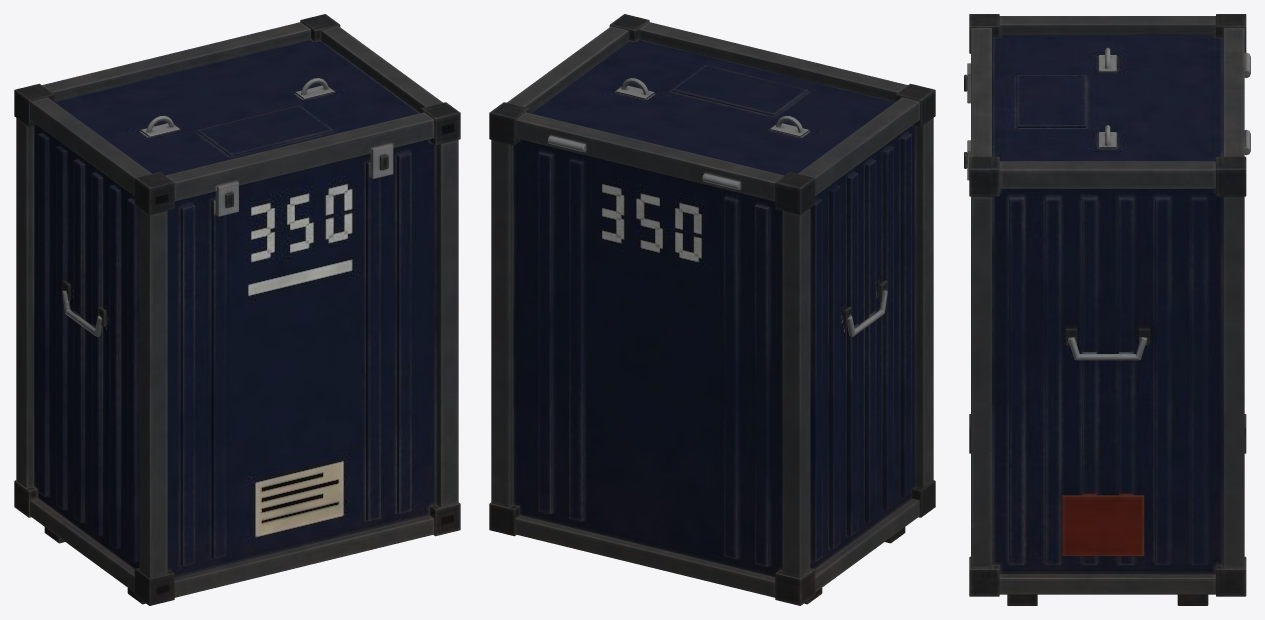
The model's file is crate_tall_c.glb.
3 renders of one model, left to right at view 1: azimuth 30°, elevation 25°; view 2: azimuth 150°, elevation 25°; view 3: azimuth 270°, elevation 25°, orthographic. The views are drawn at different scales.
Visible parts, largest first — view 1: crate_tall_c; view 2: crate_tall_c; view 3: crate_tall_c.
Boxes of the visible parts, bbox=[...] form: crate_tall_c: bbox=[14, 14, 460, 605]; crate_tall_c: bbox=[489, 14, 935, 605]; crate_tall_c: bbox=[964, 14, 1250, 605].
Bounding box in the file's own units: 1.22 × 1.62 × 0.942.
1 material, 1 textured.
